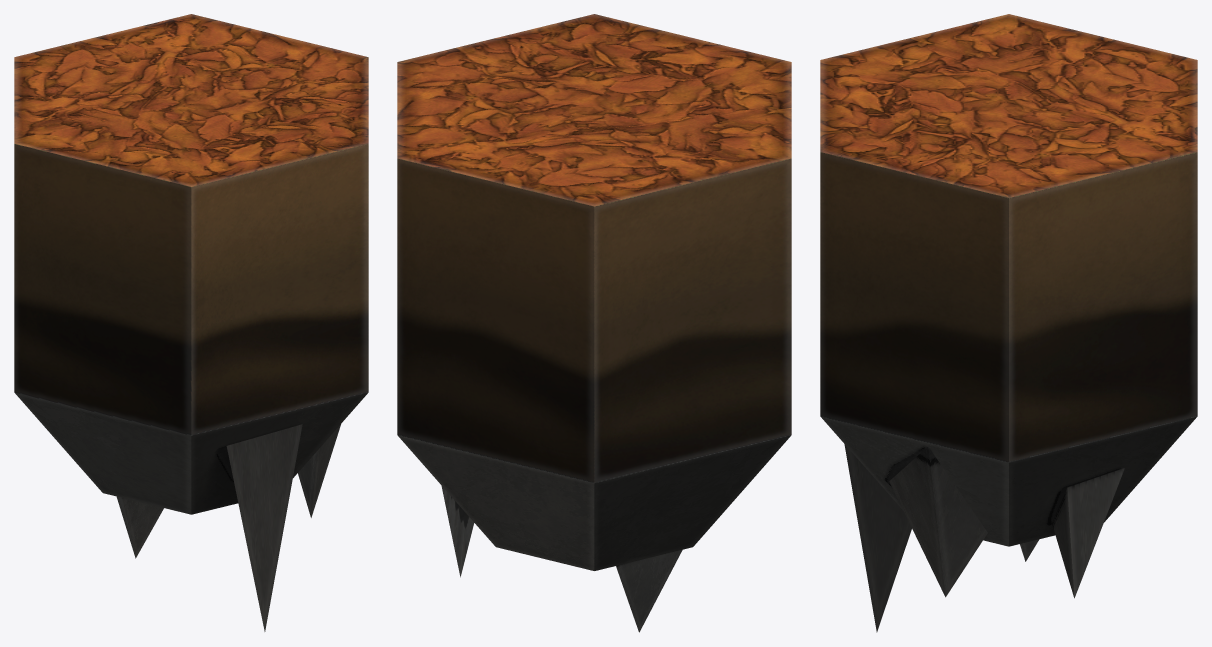
The model's file is Hex_Autumn.fbx.
3 renders of one model, left to right at view 1: azimuth 30°, elevation 25°; view 2: azimuth 150°, elevation 25°; view 3: azimuth 270°, elevation 25°, orthographic. The views are drawn at different scales.
Visible parts, largest first — view 1: Hex_Autumn; view 2: Hex_Autumn; view 3: Hex_Autumn.
Part boxes in pixels (x1=…): Hex_Autumn: x1=14, y1=14, x2=368, y2=631; Hex_Autumn: x1=397, y1=14, x2=791, y2=632; Hex_Autumn: x1=820, y1=14, x2=1197, y2=632.
Bounding box in the file's own units: 200 × 173 × 264.
